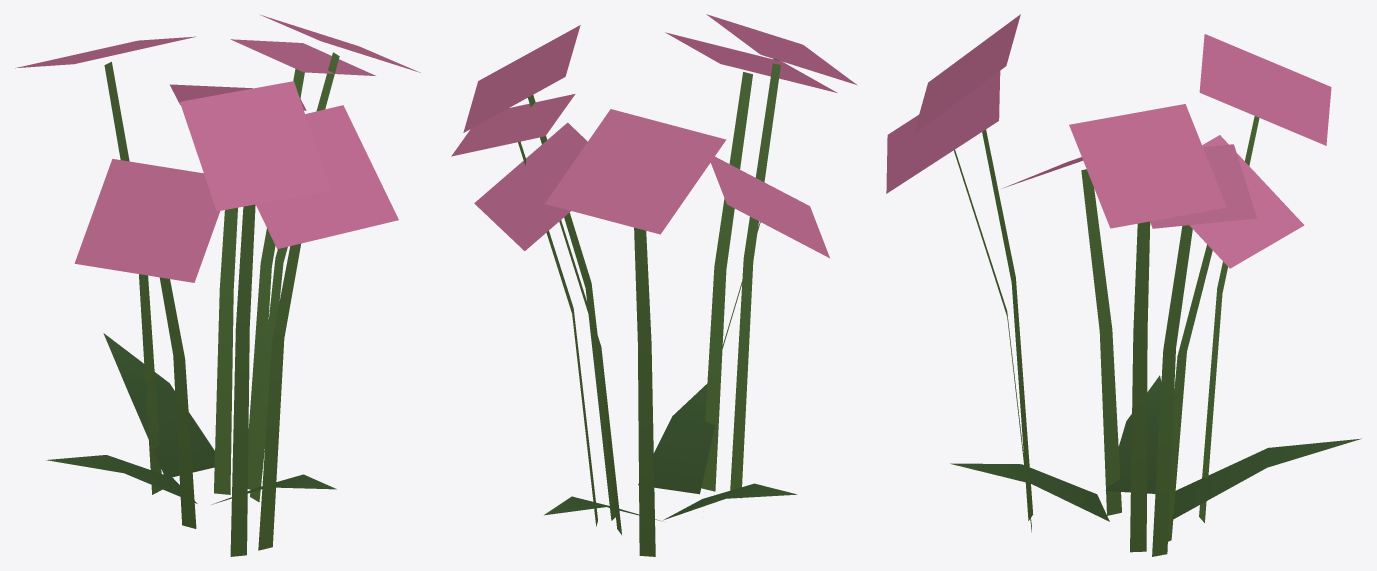
Rendered from flower.alpine.pink.glb.
3 views of the same model, side by side, from view 1: azimuth 30°, elevation 25°; view 2: azimuth 150°, elevation 25°; view 3: azimuth 270°, elevation 25° (orthographic). The views are drawn at different scales.
Parts seen in each view (by area): view 1: flower_alpine_pink; view 2: flower_alpine_pink; view 3: flower_alpine_pink.
Boxes of the visible parts, x1,y1,x2,y2 form: flower_alpine_pink: (15,14,420,556); flower_alpine_pink: (451,14,857,556); flower_alpine_pink: (886,14,1361,556).
Bounding box in the file's own units: 0.146 × 0.1866 × 0.1703.
